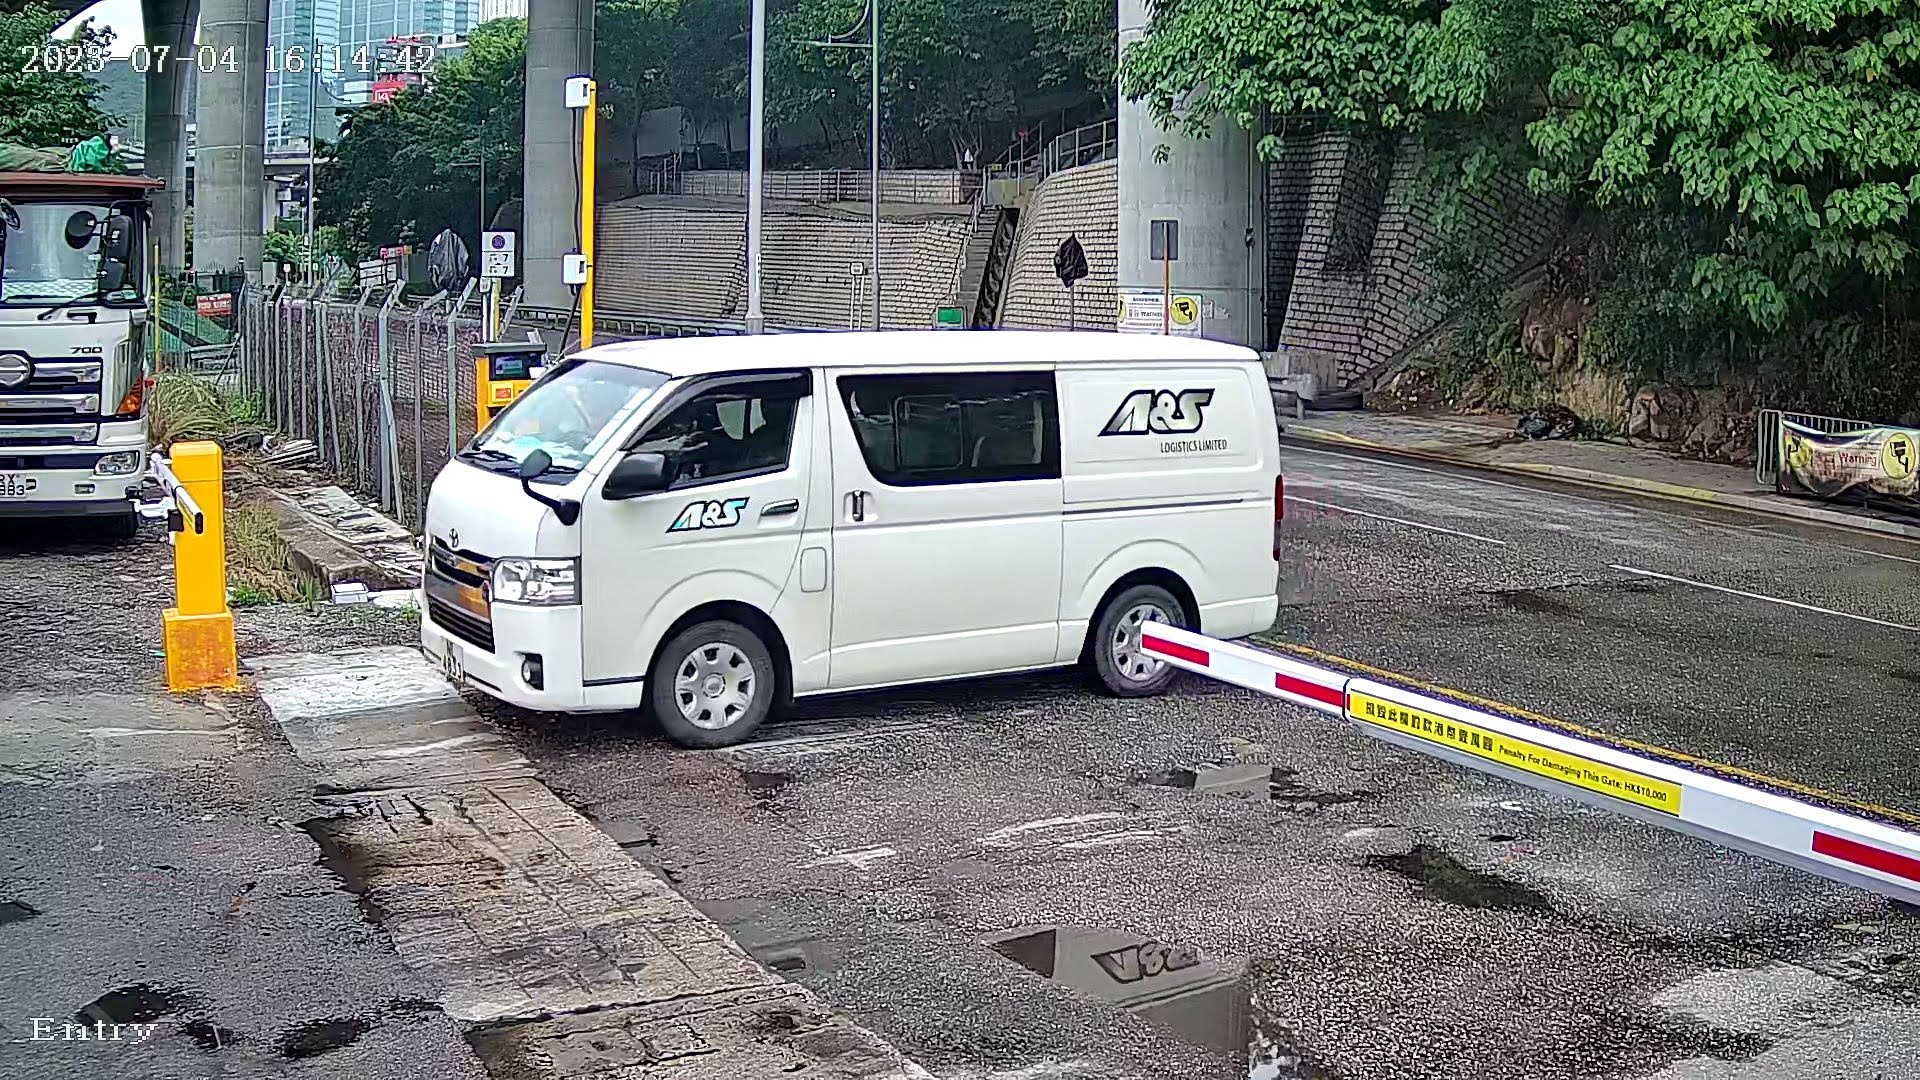privatecar: (390, 287, 1320, 771)
